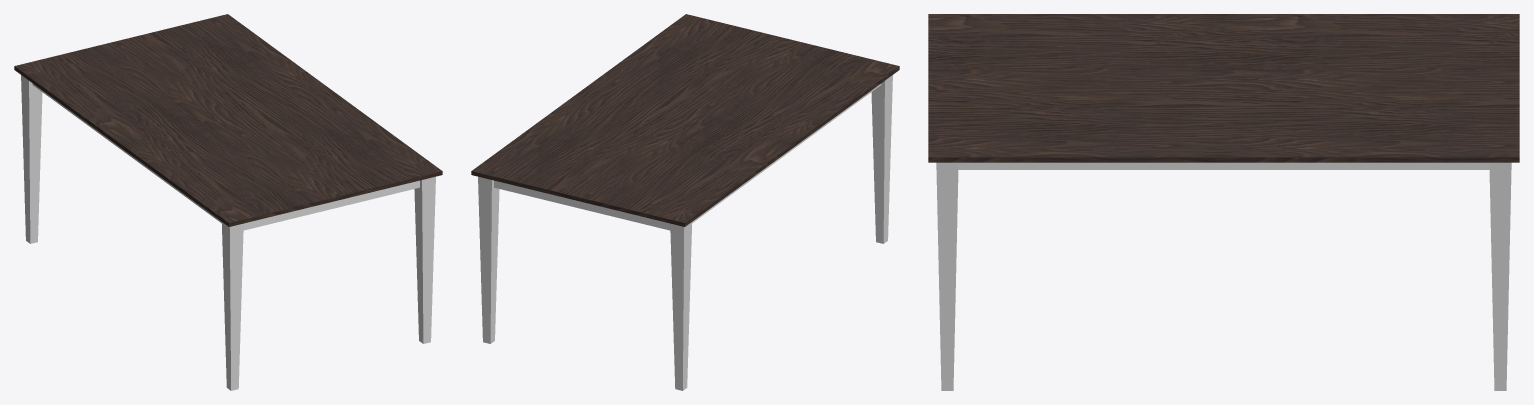
File: Table_10-col.glb
3 renders of one model, left to right at view 1: azimuth 30°, elevation 25°; view 2: azimuth 150°, elevation 25°; view 3: azimuth 270°, elevation 25°, orthographic. The views are drawn at different scales.
Parts seen in each view (by area): view 1: Table_10-col; view 2: Table_10-col; view 3: Table_10-col.
Boxes of the visible parts, x1,y1,x2,y2 form: Table_10-col: (14, 14, 442, 390); Table_10-col: (471, 14, 899, 390); Table_10-col: (928, 14, 1519, 390).
Size of the model in its own units: 0.947 by 0.7329 by 1.65.
Materials: 2 (1 with a texture image).
